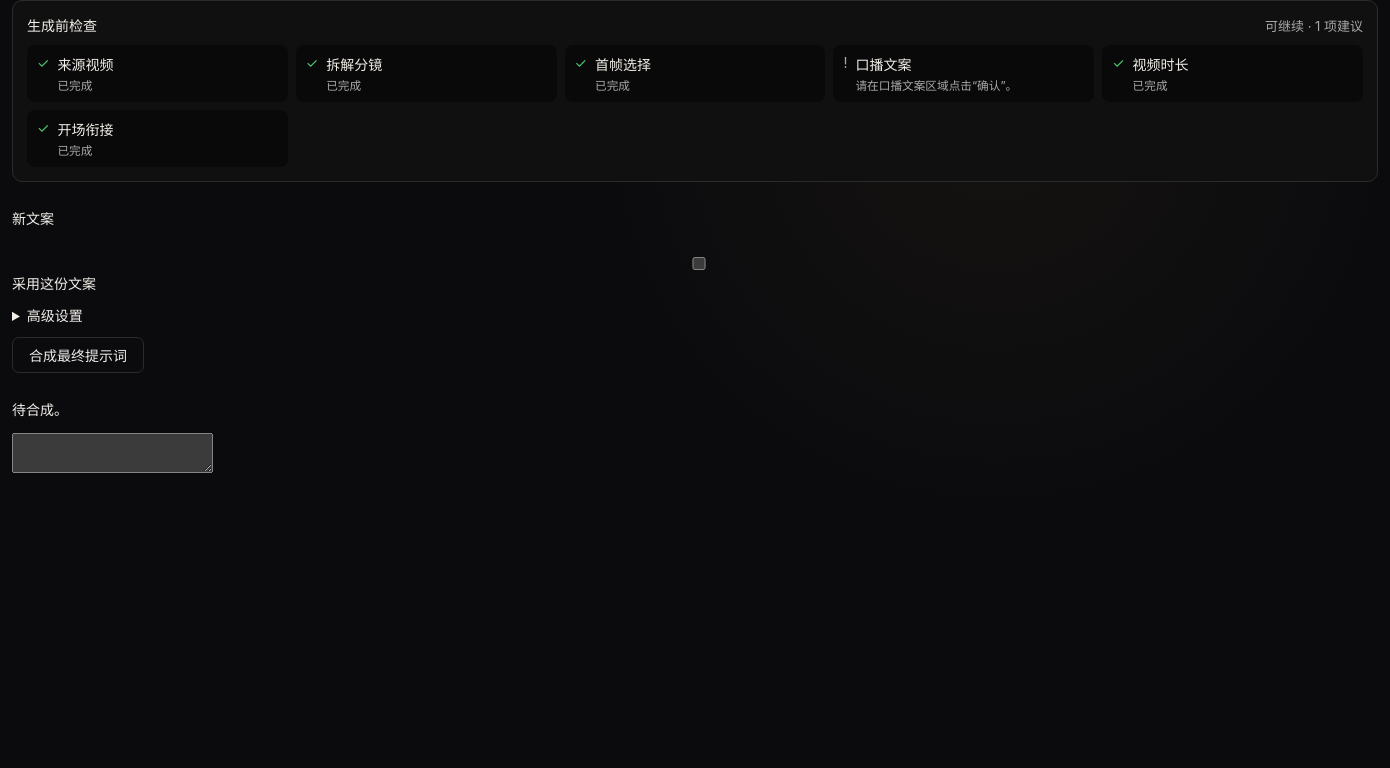
Scenario: 最终提示词后置 › 服务端判定缺开场衔接时，把输入框显示出来而不是只报错
Click the checkbox labelled "采用这份文案". click: x=697, y=264
box: [16,257,1378,270]
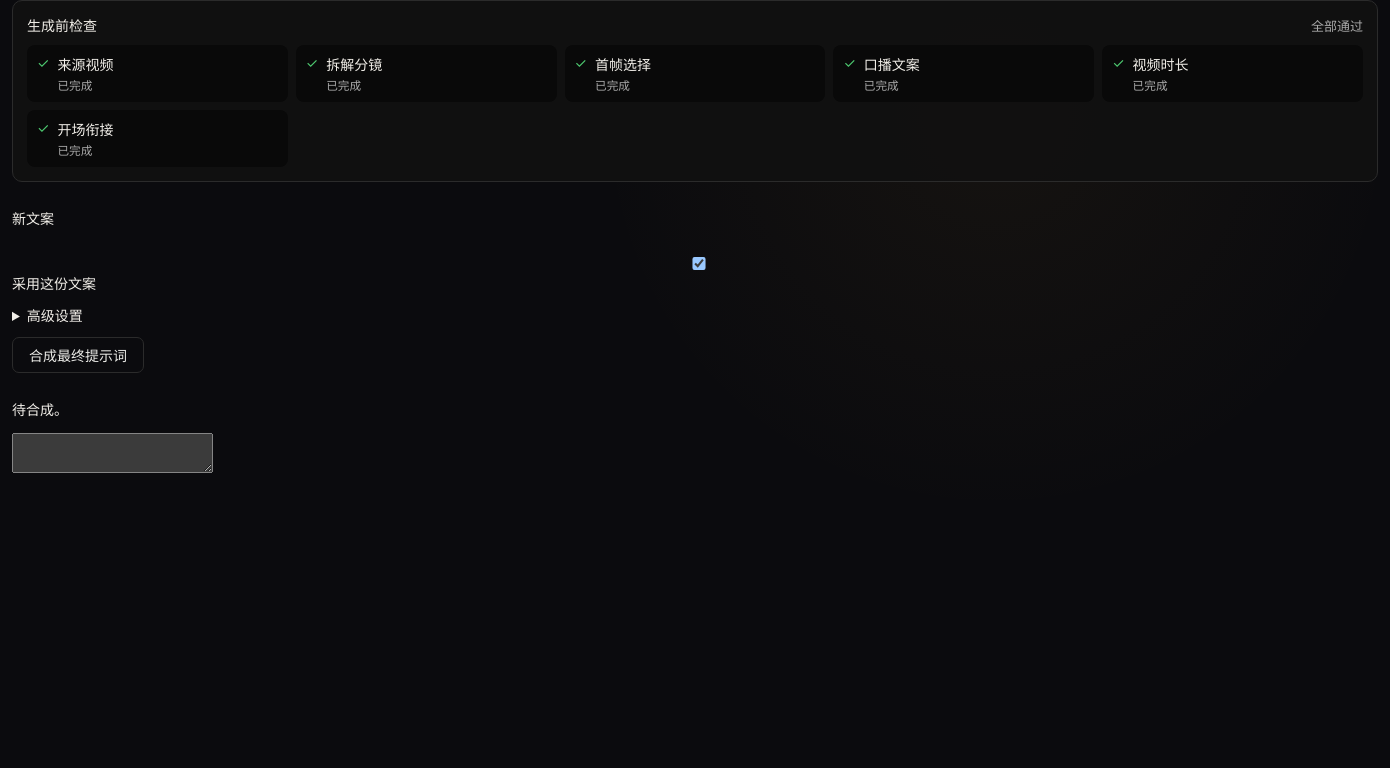
Click the button "合成最终提示词". click: x=78, y=355
box: [12,337,144,373]
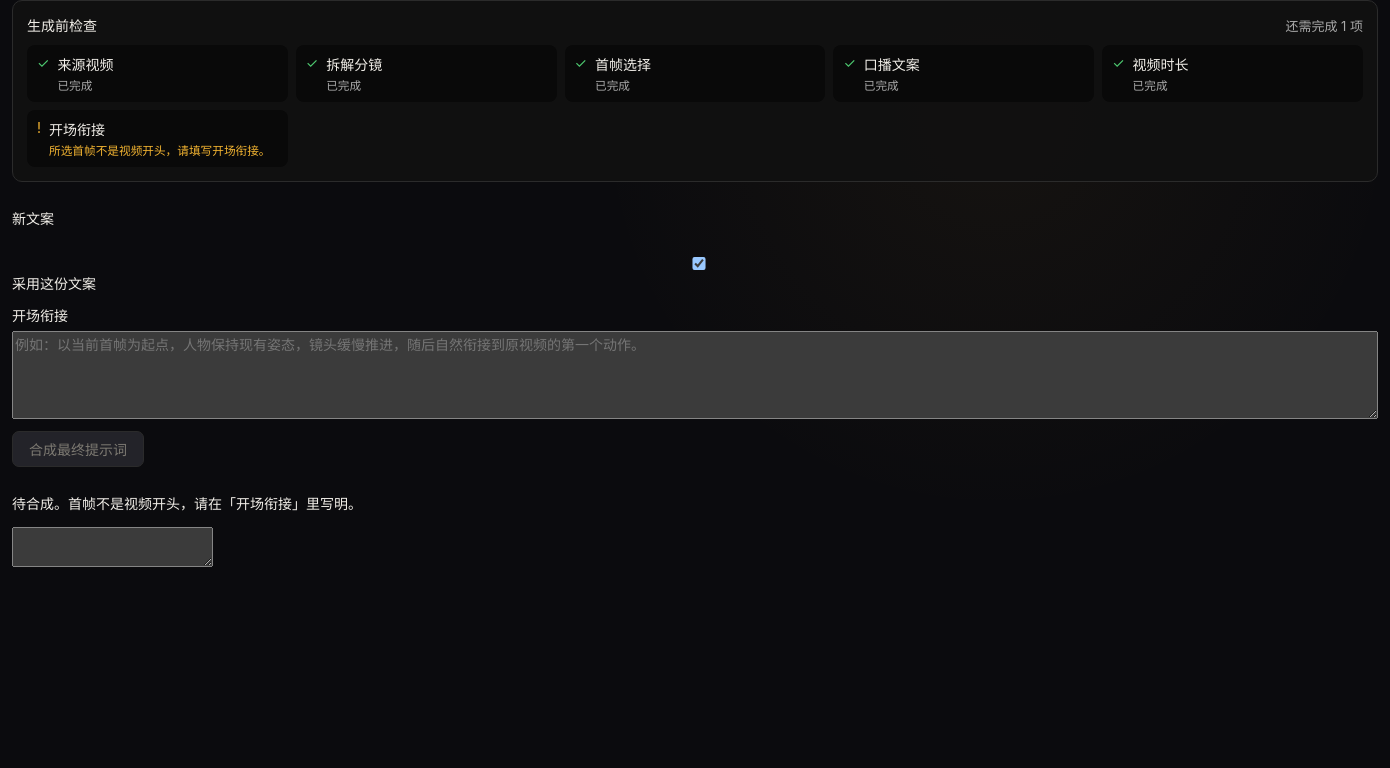
expect the text box labelled "开场衔接" is shown: met, box [12,331,1378,419]
expect the message shows "首帧不是视频开头": met, box [68,495,362,512]
